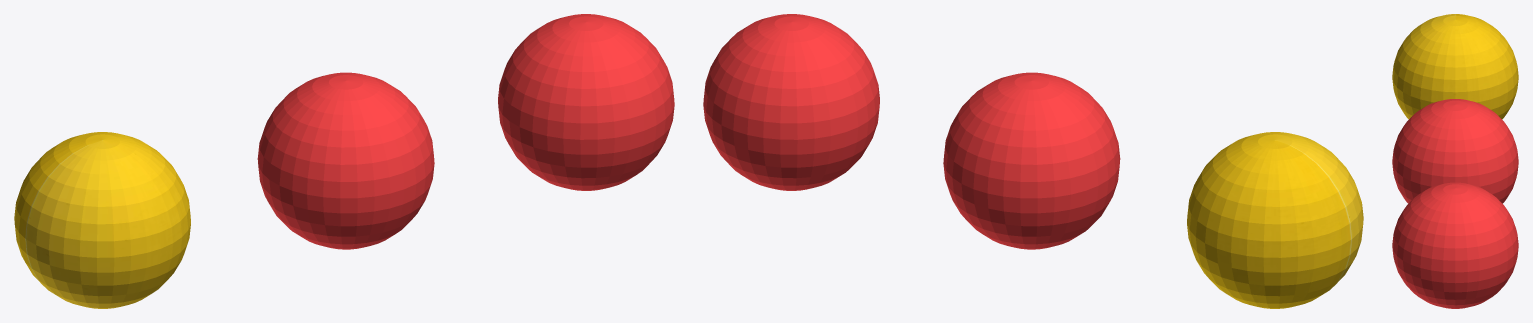
Rendered from sfere2R.obj.
The picture shows the model from 3 angles, left to right: view 1: azimuth 30°, elevation 25°; view 2: azimuth 150°, elevation 25°; view 3: azimuth 270°, elevation 25°; orthographic projection. The views are drawn at different scales.
Parts seen in each view (by area): view 1: Sfera.001, Sfera, Sfera.002; view 2: Sfera.001, Sfera, Sfera.002; view 3: Sfera, Sfera.002, Sfera.001.
Boxes of the visible parts, <box> form: Sfera.001: <box>257,72,434,249</box>; Sfera: <box>498,14,674,190</box>; Sfera.002: <box>14,132,190,308</box>; Sfera.001: <box>943,72,1120,249</box>; Sfera: <box>703,14,879,190</box>; Sfera.002: <box>1187,132,1363,308</box>; Sfera: <box>1392,182,1518,308</box>; Sfera.002: <box>1392,14,1518,119</box>; Sfera.001: <box>1392,99,1518,203</box>.
Size of the model in its own units: 2.07 by 0.5 by 0.5.
2 materials, 2 textured.
